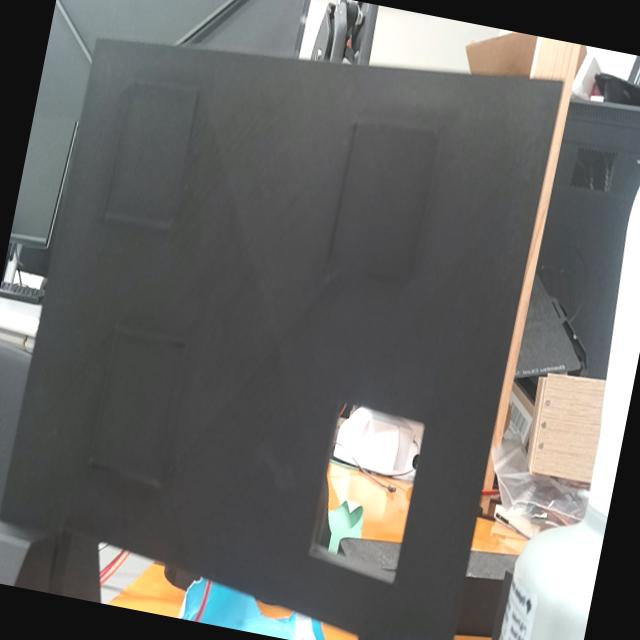Obstacle: (307, 401, 424, 583)
Wall: (1, 36, 565, 640)
